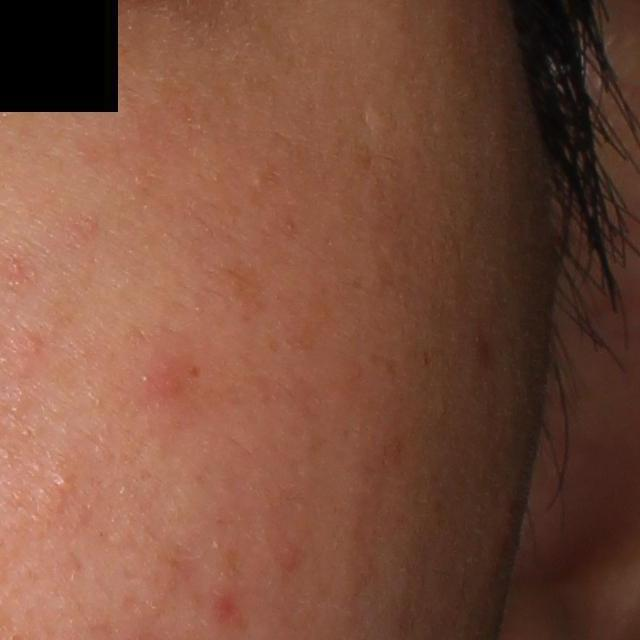atrophic_scar: (358, 101, 372, 127)
